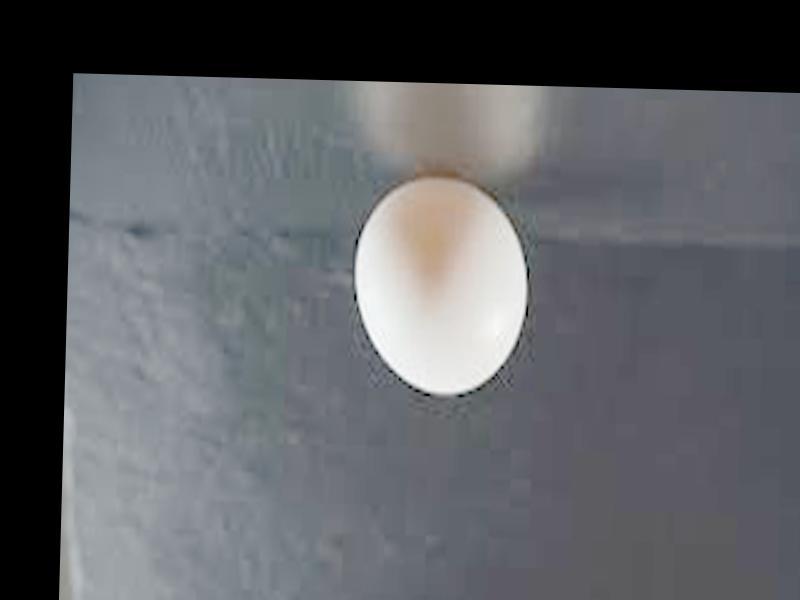Eggs: (351, 176, 528, 401)
